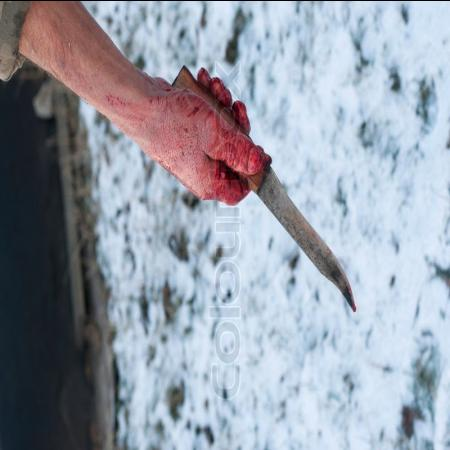long weapon: (205, 94, 363, 321)
